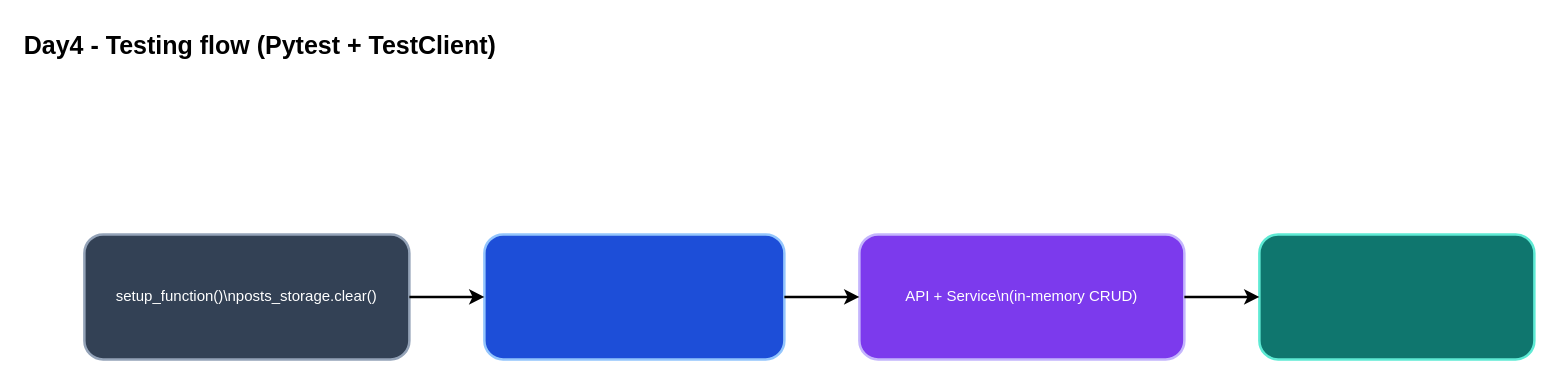
This 1556x381 diagram has some shape labels left out. Each missing label, with the box of its shape:
Assertions\nstatus + payload: (1258, 232, 1535, 360)
TestClient(app)\ncall endpoint: (482, 232, 785, 360)
